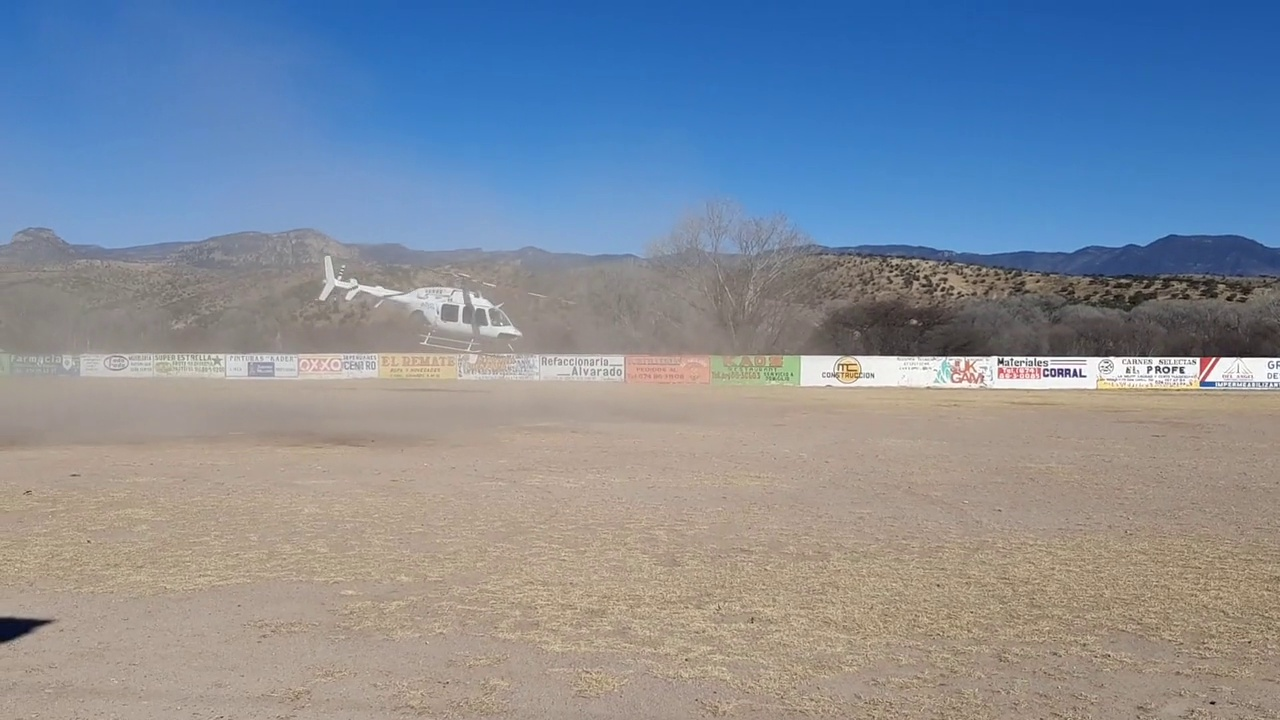heli: (316, 252, 554, 359)
